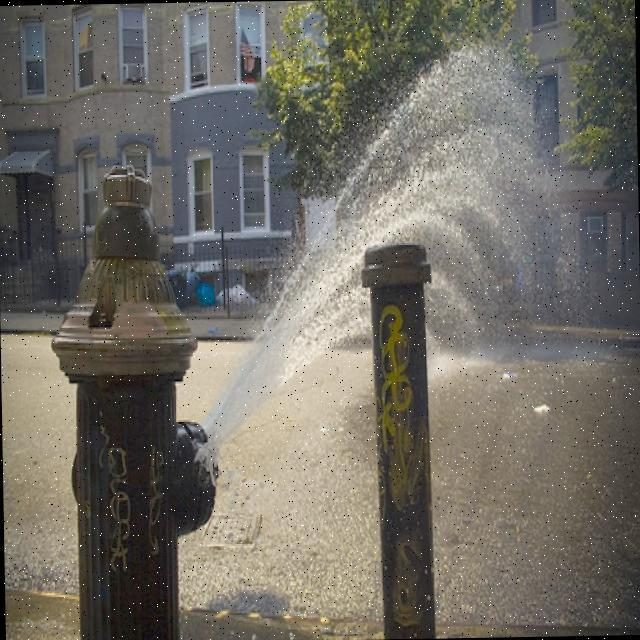fire_hydrant: (48, 158, 220, 632)
